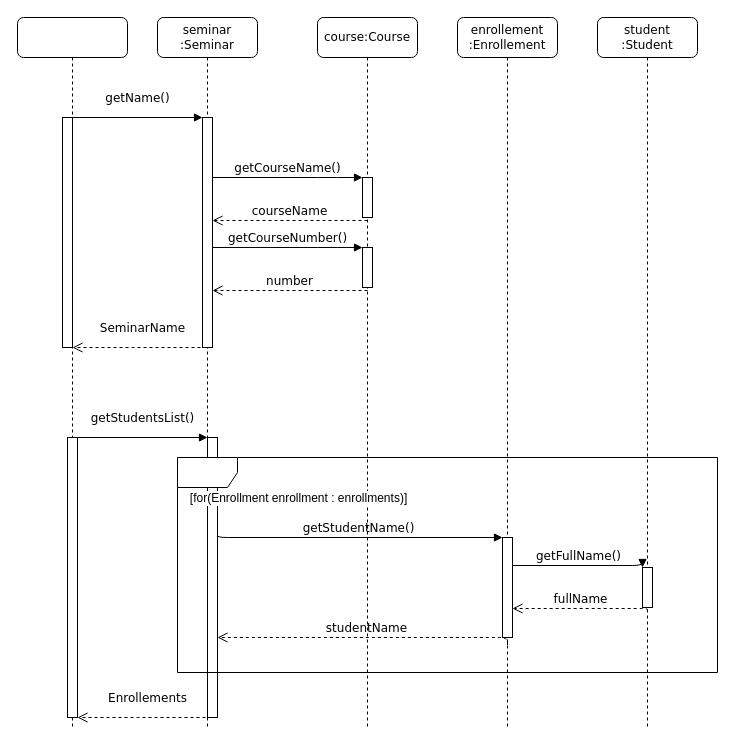
The diagram is 735 pixels wide and 745 high, and some of its shapes have lost their labels. Here are the shapes that lost their labels. From the top down, the box of each, then its label:
(16, 16, 128, 728): seminarDetails :SeminarDetails
(176, 456, 718, 672): loop
